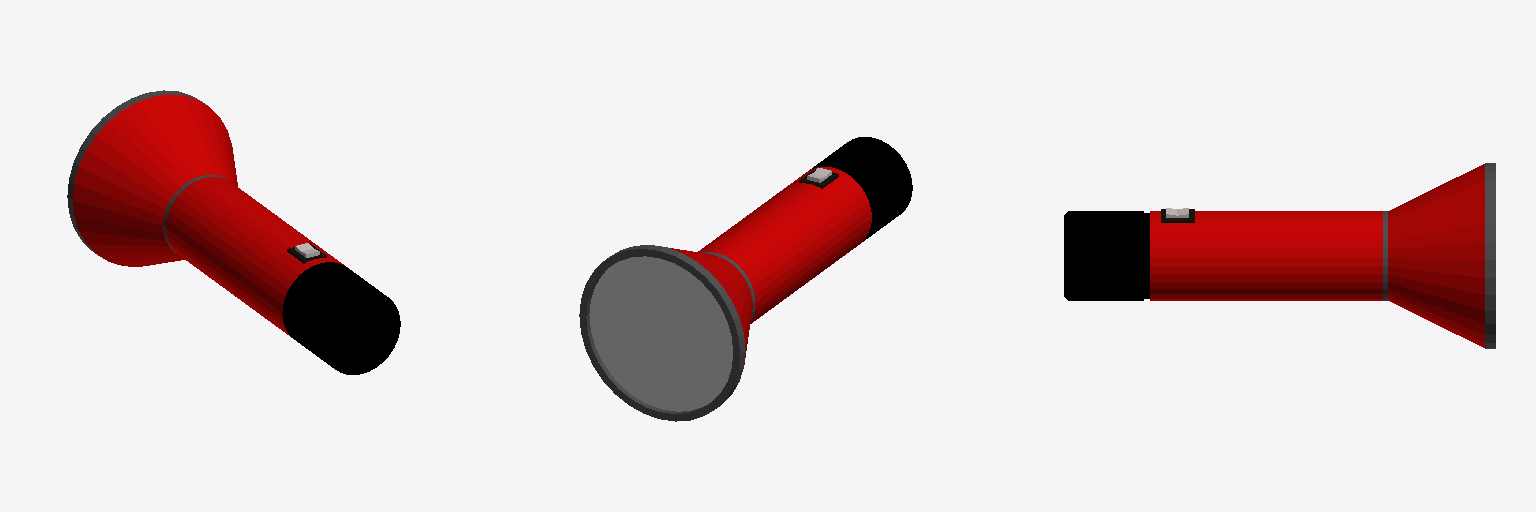
The model's file is flashlight.obj.
3 renders of one model, left to right at view 1: azimuth 30°, elevation 25°; view 2: azimuth 150°, elevation 25°; view 3: azimuth 270°, elevation 25°, orthographic.
Parts seen in each view (by area): view 1: Cylinder.001; view 2: Cylinder.001; view 3: Cylinder.001.
Boxes of the visible parts, <box> form: Cylinder.001: <box>67,90,400,374</box>; Cylinder.001: <box>579,137,912,421</box>; Cylinder.001: <box>1064,163,1495,348</box>.
Bounding box in the file's own units: 0.554 × 0.554 × 1.29.